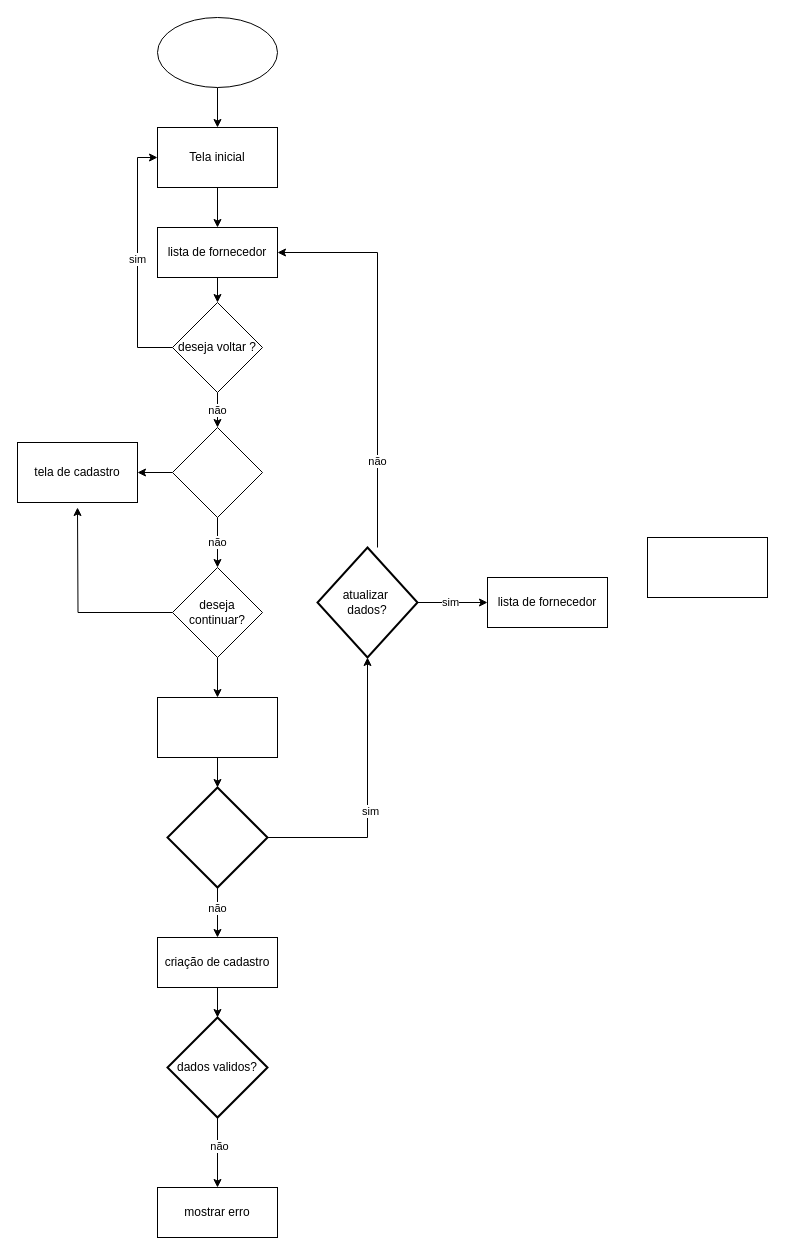
Some shapes in this 785 by 1255 pixel diagram are drawn without their labels. The shapes that lost their labels are listed below. From the top down, each one's centre as x and y in pixels, then its label:
At point 217,52: "início".
At point 217,472: "deseja cadastrar?".
At point 707,567: "tela atualização".
At point 217,727: "Buscar por fornecedor".
At point 217,837: "fornecedor cadastrado?".
